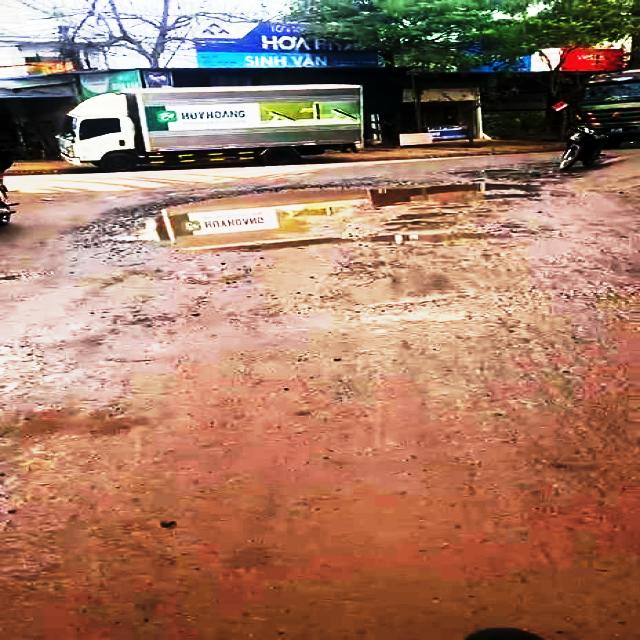pothole: (101, 180, 546, 249)
